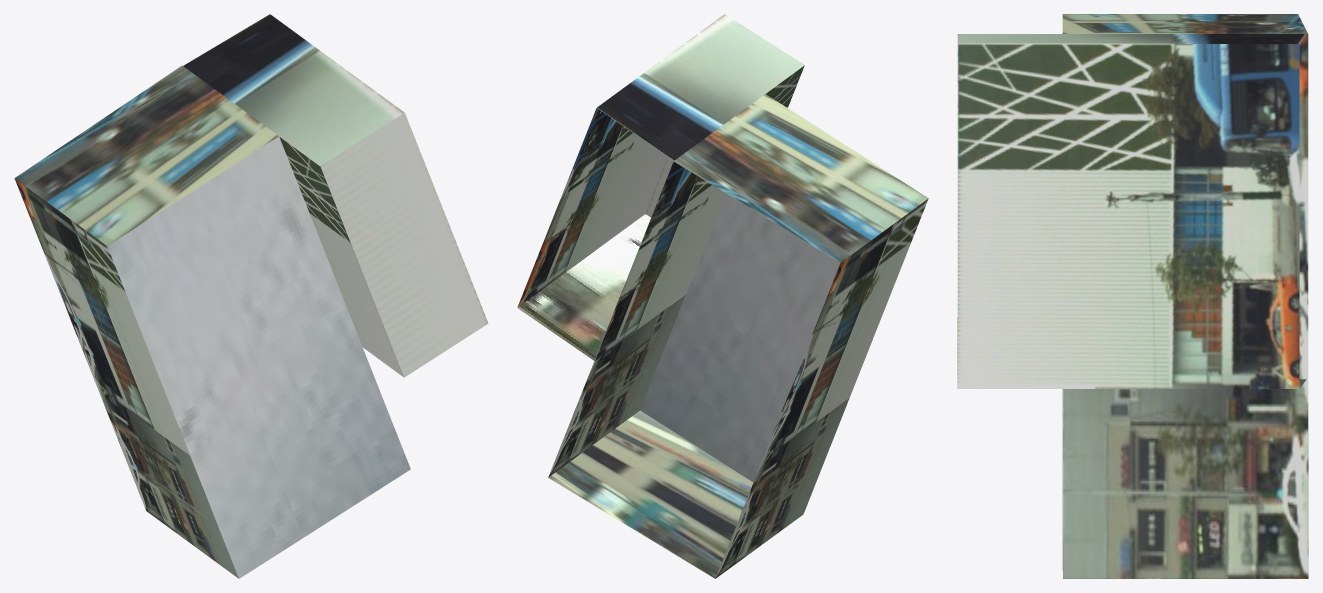
The picture shows the model from 3 angles, left to right: view 1: azimuth 30°, elevation 25°; view 2: azimuth 150°, elevation 25°; view 3: azimuth 270°, elevation 25°; orthographic projection. The views are drawn at different scales.
Visible parts, largest first — view 1: IndexedFaceSet__5_0, IndexedFaceSet__7_0, IndexedFaceSet__4_0, IndexedFaceSet__8_0, IndexedFaceSet__3_0, IndexedFaceSet__1_0; view 2: IndexedFaceSet__5_0, IndexedFaceSet__7_0, IndexedFaceSet__8_0, IndexedFaceSet__9_0, IndexedFaceSet__3_0, IndexedFaceSet, IndexedFaceSet__1_0, IndexedFaceSet__6_0, IndexedFaceSet__2_0; view 3: IndexedFaceSet, IndexedFaceSet__6_0, IndexedFaceSet__7_0, IndexedFaceSet__3_0.
Boxes of the visible parts, x1=… form: IndexedFaceSet__5_0: x1=107, y1=136, x2=410, y2=578; IndexedFaceSet__7_0: x1=14, y1=65, x2=278, y2=245; IndexedFaceSet__4_0: x1=320, y1=113, x2=488, y2=377; IndexedFaceSet__8_0: x1=14, y1=178, x2=238, y2=578; IndexedFaceSet__3_0: x1=183, y1=14, x2=404, y2=166; IndexedFaceSet__1_0: x1=279, y1=137, x2=403, y2=377; IndexedFaceSet__5_0: x1=640, y1=193, x2=840, y2=482; IndexedFaceSet__7_0: x1=674, y1=94, x2=928, y2=262; IndexedFaceSet__8_0: x1=715, y1=198, x2=928, y2=578; IndexedFaceSet__9_0: x1=548, y1=410, x2=753, y2=578; IndexedFaceSet__3_0: x1=597, y1=14, x2=804, y2=160; IndexedFaceSet: x1=517, y1=108, x2=667, y2=307; IndexedFaceSet__1_0: x1=595, y1=65, x2=804, y2=360; IndexedFaceSet__6_0: x1=548, y1=161, x2=685, y2=477; IndexedFaceSet__2_0: x1=517, y1=214, x2=650, y2=360; IndexedFaceSet: x1=957, y1=44, x2=1299, y2=388; IndexedFaceSet__6_0: x1=1063, y1=34, x2=1308, y2=578; IndexedFaceSet__7_0: x1=1062, y1=14, x2=1307, y2=33; IndexedFaceSet__3_0: x1=957, y1=34, x2=1306, y2=43.
Size of the model in its own units: 33.03 by 43.31 by 23.31.
Materials: 9 (9 with a texture image).
